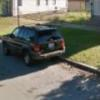cars: (0, 26, 69, 61)
